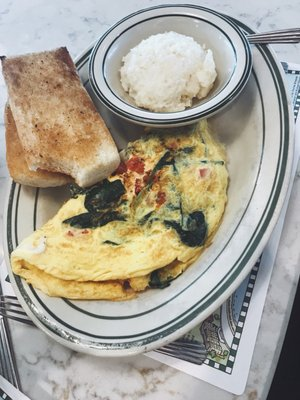soup: (3, 45, 121, 189)
sushi: (84, 14, 251, 126)
